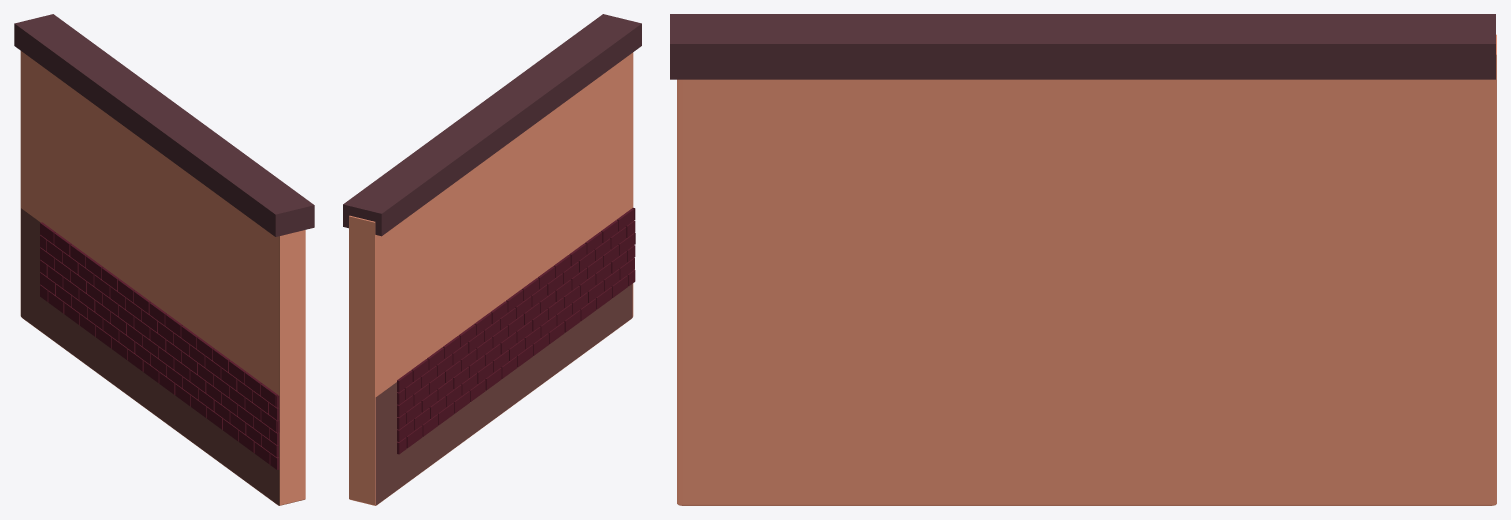
The model's file is parede-direita.fbx.
The picture shows the model from 3 angles, left to right: view 1: azimuth 30°, elevation 25°; view 2: azimuth 150°, elevation 25°; view 3: azimuth 270°, elevation 25°; orthographic projection. The views are drawn at different scales.
Visible parts, largest first — view 1: Cube.098; view 2: Cube.098; view 3: Cube.098.
Part boxes in pixels (x1=…): Cube.098: x1=14, y1=14, x2=314, y2=505; Cube.098: x1=343, y1=14, x2=641, y2=505; Cube.098: x1=670, y1=14, x2=1496, y2=505.
Size of the model in its own units: 0.5699 by 4.13 by 6.63.
